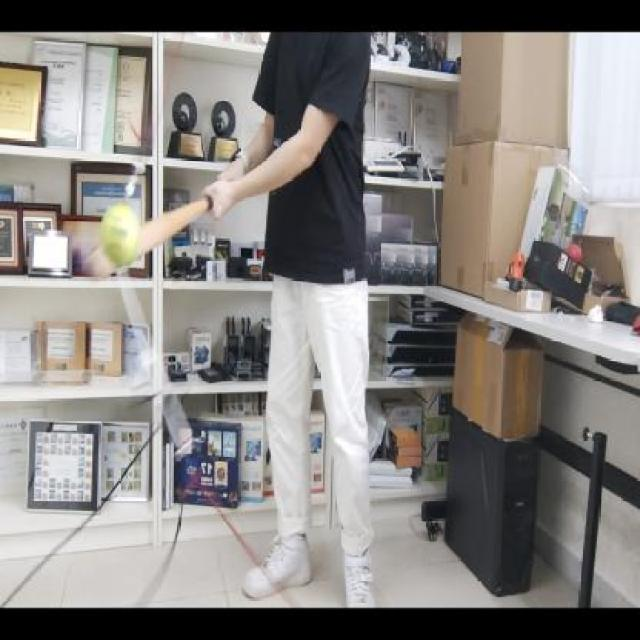baseball: (98, 200, 140, 268)
